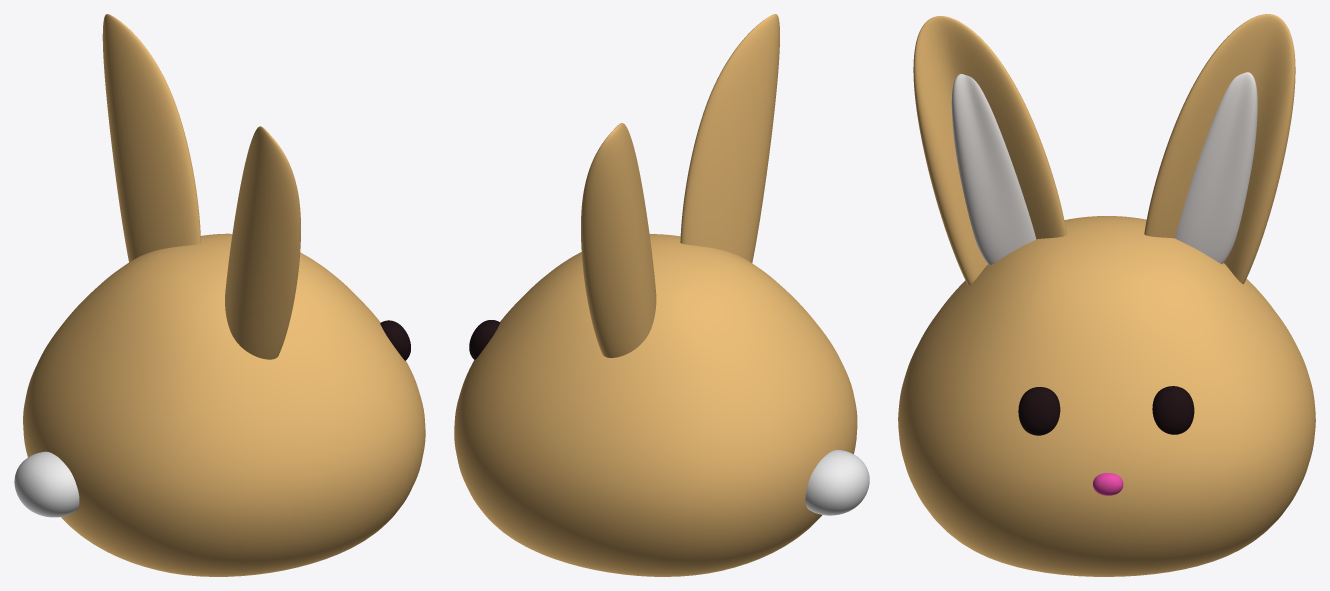
Rendered from Bunny.glb.
3 renders of one model, left to right at view 1: azimuth 30°, elevation 25°; view 2: azimuth 150°, elevation 25°; view 3: azimuth 270°, elevation 25°, orthographic. The views are drawn at different scales.
Visible parts, largest first — view 1: Cube, Plane, Cube.003, Cube.001; view 2: Cube, Plane, Cube.003, Cube.001; view 3: Cube, Plane, Plane.001, Cube.001, Cube.002.
Part boxes in pixels (box(x1,y1,x2,y2)): Cube: box(23, 233, 425, 576); Plane: box(102, 14, 300, 359); Cube.003: box(14, 451, 79, 517); Cube.001: box(380, 320, 410, 360); Cube: box(454, 234, 857, 576); Plane: box(581, 14, 779, 357); Cube.003: box(805, 450, 869, 515); Cube.001: box(469, 320, 500, 359); Cube: box(898, 216, 1315, 576); Plane: box(913, 14, 1295, 285); Plane.001: box(951, 72, 1257, 265); Cube.001: box(1018, 386, 1194, 435); Cube.002: box(1093, 473, 1123, 495).
Size of the model in its own units: 2.41 by 2.8 by 2.16.
